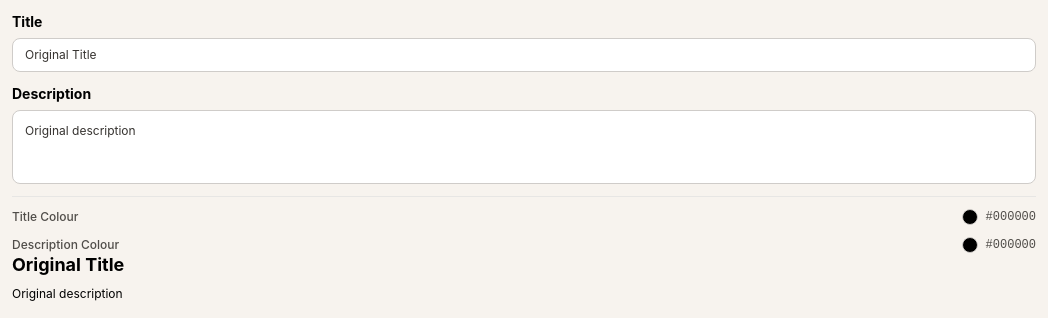
Test case: editor matches preview › updating the title in the panel is reflected in the preview
# update title in input
Replace the text in the field with placeholder "Enter a title" with "New Title" at (524, 55), box [12, 38, 1036, 72]
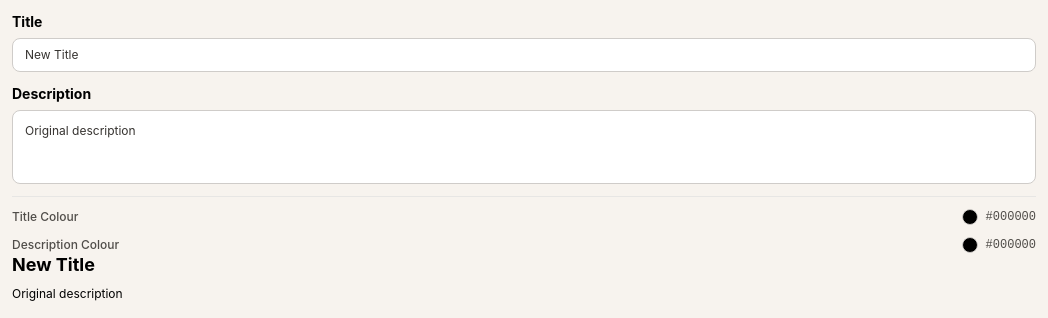
Expected: the heading reads "New Title", [12, 254, 95, 275]
